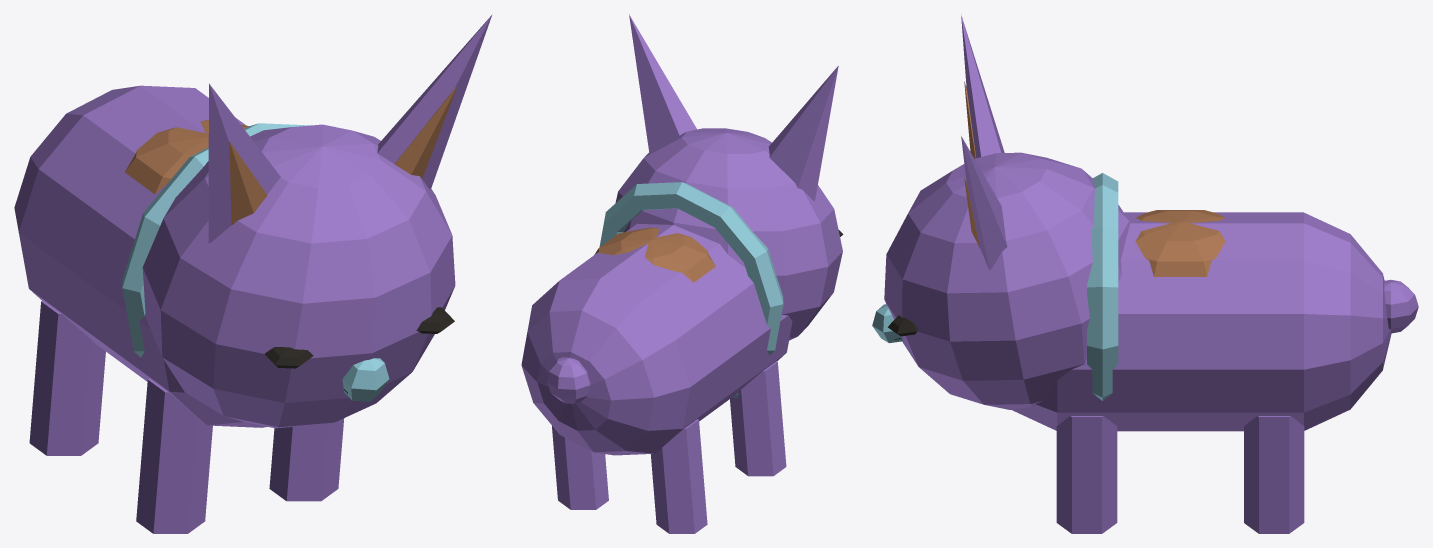
File: bean-forest-2.glb
3 renders of one model, left to right at view 1: azimuth 30°, elevation 25°; view 2: azimuth 150°, elevation 25°; view 3: azimuth 270°, elevation 25°, orthographic. The views are drawn at different scales.
Visible parts, largest first — view 1: bean-forest-2; view 2: bean-forest-2; view 3: bean-forest-2.
Part boxes in pixels (x1,y1,x2,y2): bean-forest-2: [14, 14, 492, 533]; bean-forest-2: [521, 14, 843, 533]; bean-forest-2: [872, 14, 1418, 533].
Size of the model in its own units: 0.4449 by 0.7053 by 0.7986.
